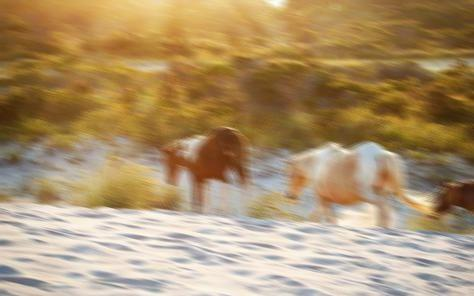horse: (278, 140, 436, 227), (158, 125, 252, 216), (425, 178, 474, 219)
